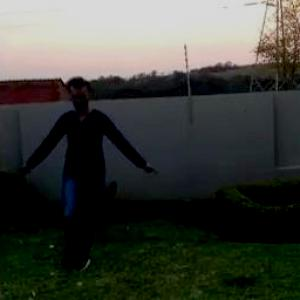land: (22, 77, 141, 251)
